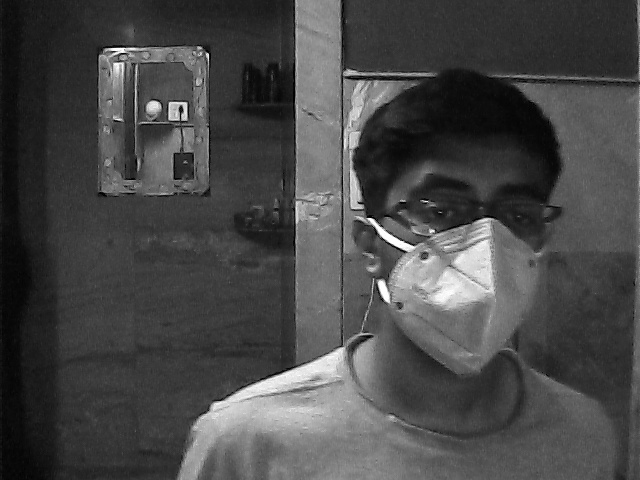mask: (377, 150, 554, 384)
